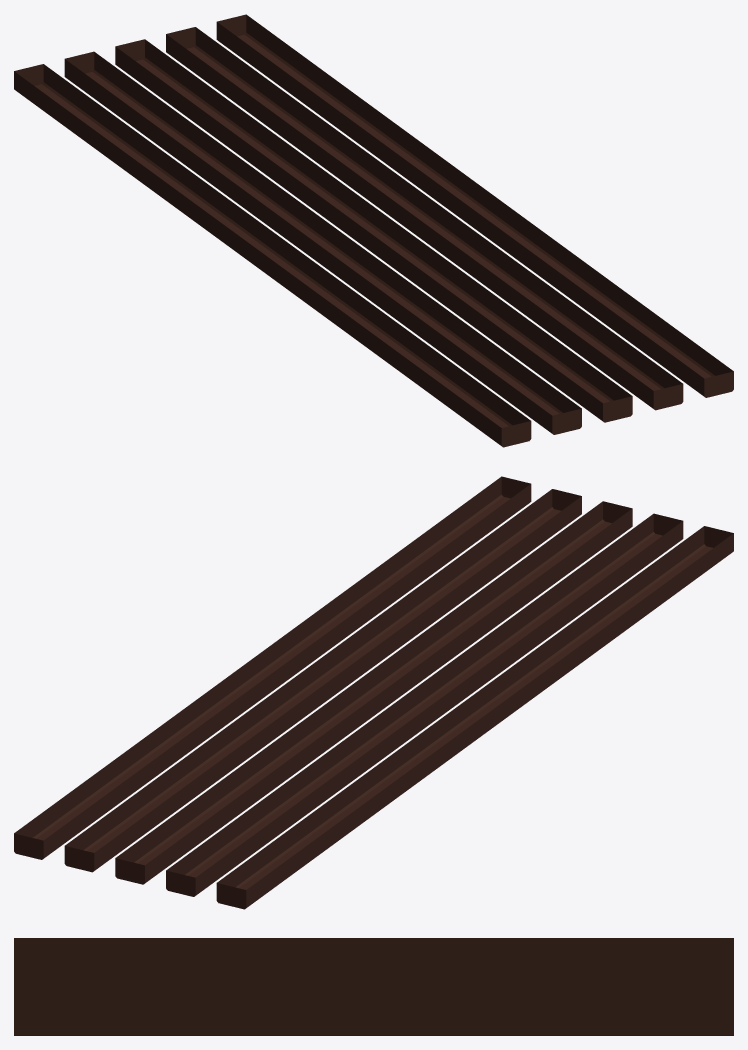
File: arch_slat_module.glb
3 views of the same model, one above another, from view 1: azimuth 30°, elevation 25°; view 2: azimuth 150°, elevation 25°; view 3: azimuth 270°, elevation 25° (orthographic). The views are drawn at different scales.
Parts seen in each view (by area): view 1: arch_slat_module; view 2: arch_slat_module; view 3: arch_slat_module.
Boxes of the visible parts, x1,y1,x2,y2 form: arch_slat_module: [14, 14, 733, 447]; arch_slat_module: [14, 476, 733, 909]; arch_slat_module: [14, 938, 733, 1035].
Bounding box in the file's own units: 0.5501 × 0.0449 × 2.
1 material, 1 textured.
